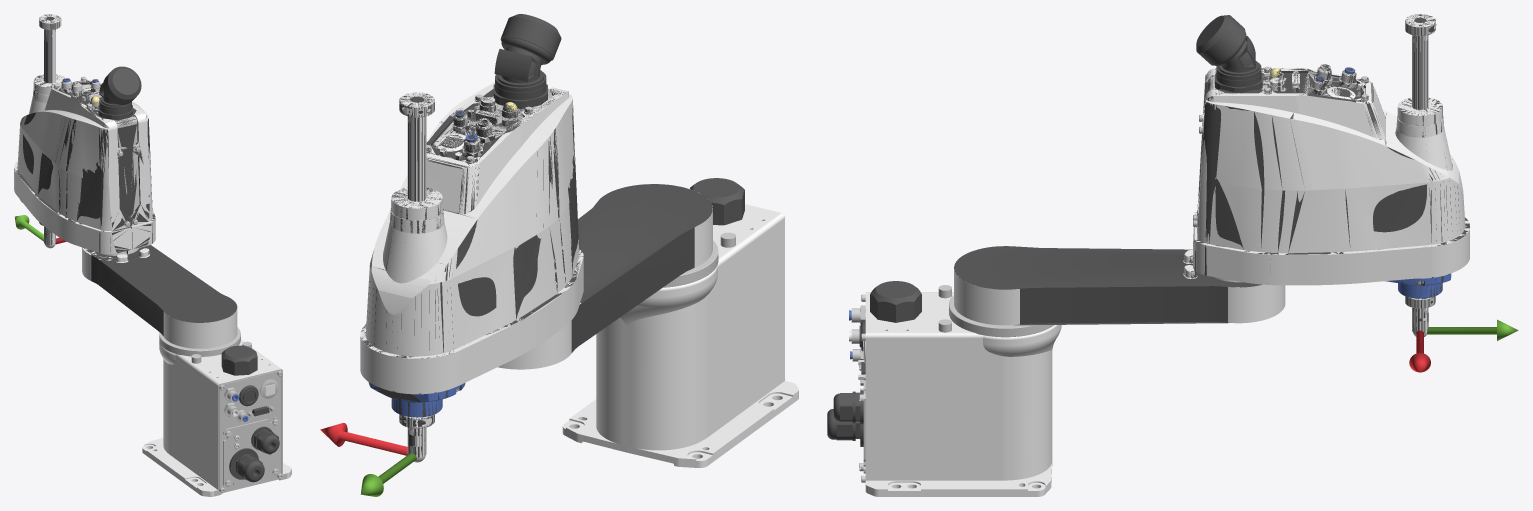
The model's file is EPSON_LS3_B401S.fbx.
3 renders of one model, left to right at view 1: azimuth 30°, elevation 25°; view 2: azimuth 150°, elevation 25°; view 3: azimuth 270°, elevation 25°, orthographic. The views are drawn at different scales.
Parts seen in each view (by area): view 1: Joint_2_EPSON_LS3_B401S_ID_001, EPSON_LS3_B401S_ID_001, Joint_1_Ghost_EPSON_LS3_B401S_ID_001, Joint_2_Ghost_EPSON_LS3_B401S_ID_001, Joint_1_EPSON_LS3_B401S_ID_001, Joint_4_EPSON_LS3_B401S_ID_001, Joint_4_Ghost_EPSON_LS3_B401S_ID_001; view 2: Joint_2_EPSON_LS3_B401S_ID_001, EPSON_LS3_B401S_ID_001, Joint_2_Ghost_EPSON_LS3_B401S_ID_001, Joint_1_Ghost_EPSON_LS3_B401S_ID_001, Joint_4_EPSON_LS3_B401S_ID_001, Joint_4_Ghost_EPSON_LS3_B401S_ID_001, Joint_1_EPSON_LS3_B401S_ID_001, AX_X.001, AX_Y.001; view 3: Joint_2_EPSON_LS3_B401S_ID_001, EPSON_LS3_B401S_ID_001, Joint_1_Ghost_EPSON_LS3_B401S_ID_001, Joint_2_Ghost_EPSON_LS3_B401S_ID_001, Joint_1_EPSON_LS3_B401S_ID_001, Joint_4_EPSON_LS3_B401S_ID_001, Joint_4_Ghost_EPSON_LS3_B401S_ID_001, AX_Y.001.
Part boxes in pixels (x1,y1,x2,y2): Joint_2_EPSON_LS3_B401S_ID_001: [14, 66, 155, 258]; EPSON_LS3_B401S_ID_001: [142, 327, 291, 496]; Joint_1_Ghost_EPSON_LS3_B401S_ID_001: [84, 245, 237, 335]; Joint_2_Ghost_EPSON_LS3_B401S_ID_001: [14, 68, 155, 253]; Joint_1_EPSON_LS3_B401S_ID_001: [82, 247, 237, 348]; Joint_4_EPSON_LS3_B401S_ID_001: [39, 14, 61, 245]; Joint_4_Ghost_EPSON_LS3_B401S_ID_001: [39, 14, 61, 245]; Joint_2_EPSON_LS3_B401S_ID_001: [360, 14, 583, 417]; EPSON_LS3_B401S_ID_001: [562, 178, 798, 467]; Joint_2_Ghost_EPSON_LS3_B401S_ID_001: [360, 16, 583, 416]; Joint_1_Ghost_EPSON_LS3_B401S_ID_001: [571, 184, 712, 352]; Joint_4_EPSON_LS3_B401S_ID_001: [399, 92, 434, 457]; Joint_4_Ghost_EPSON_LS3_B401S_ID_001: [399, 92, 434, 457]; Joint_1_EPSON_LS3_B401S_ID_001: [498, 184, 712, 369]; AX_X.001: [320, 423, 407, 455]; AX_Y.001: [360, 453, 416, 496]; Joint_2_EPSON_LS3_B401S_ID_001: [1193, 15, 1469, 298]; EPSON_LS3_B401S_ID_001: [827, 281, 1061, 496]; Joint_1_Ghost_EPSON_LS3_B401S_ID_001: [954, 246, 1261, 325]; Joint_2_Ghost_EPSON_LS3_B401S_ID_001: [1193, 16, 1469, 298]; Joint_1_EPSON_LS3_B401S_ID_001: [954, 246, 1285, 325]; Joint_4_EPSON_LS3_B401S_ID_001: [1405, 14, 1435, 333]; Joint_4_Ghost_EPSON_LS3_B401S_ID_001: [1405, 14, 1436, 333]; AX_Y.001: [1427, 319, 1518, 340].
Size of the model in its own units: 16.49 by 47.68 by 66.69.
